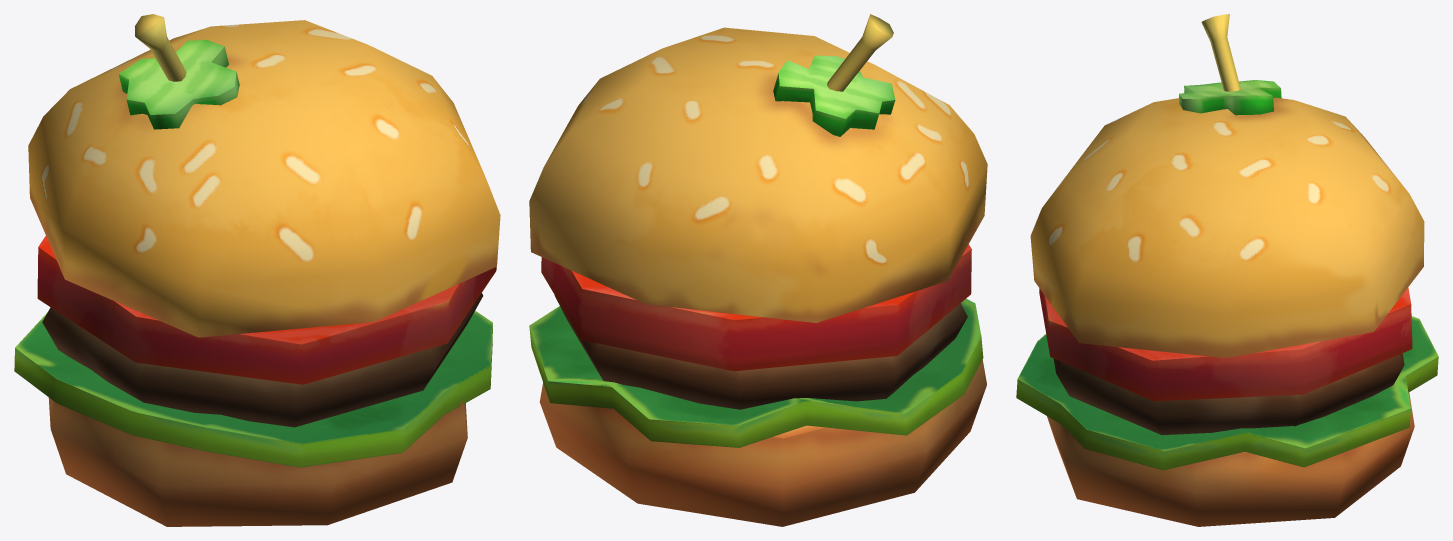
Rendered from Burger.fbx.
3 renders of one model, left to right at view 1: azimuth 30°, elevation 25°; view 2: azimuth 150°, elevation 25°; view 3: azimuth 270°, elevation 25°, orthographic. The views are drawn at different scales.
Parts seen in each view (by area): view 1: Burger; view 2: Burger; view 3: Burger.
Part boxes in pixels (x1,y1,x2,y2): Burger: (14,14,500,526); Burger: (529,14,987,526); Burger: (1016,14,1438,526).
Size of the model in its own units: 186 by 205 by 193.
